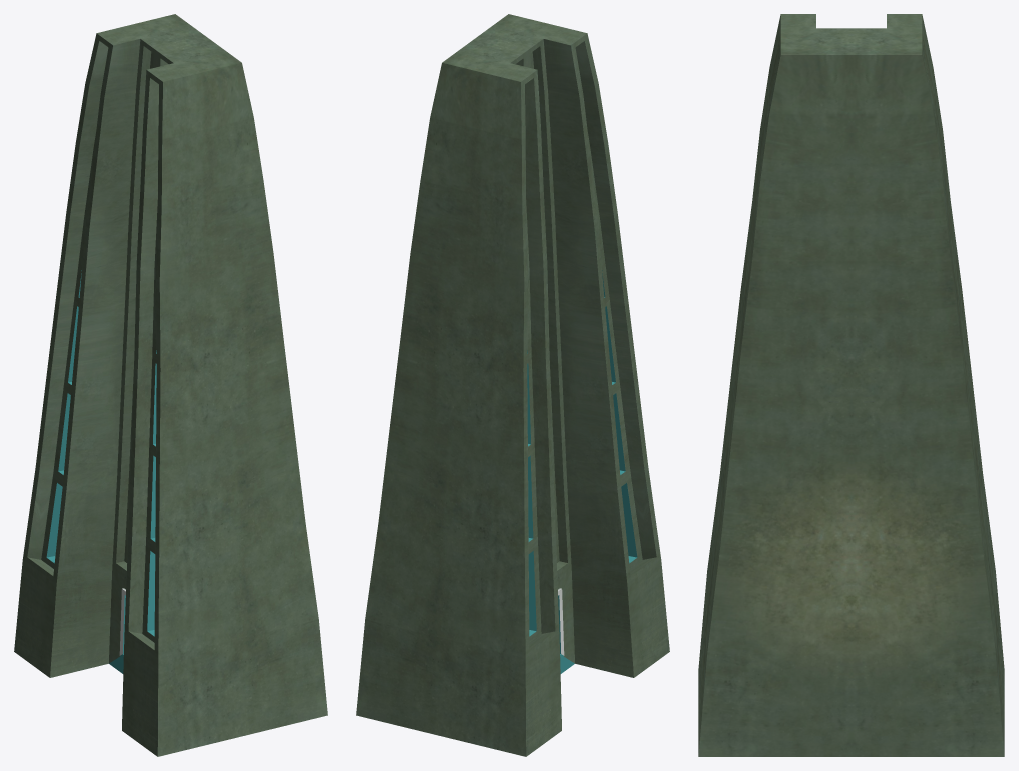
The model's file is Edificio B.fbx.
3 renders of one model, left to right at view 1: azimuth 30°, elevation 25°; view 2: azimuth 150°, elevation 25°; view 3: azimuth 270°, elevation 25°, orthographic. The views are drawn at different scales.
Parts seen in each view (by area): view 1: edificio kayla; view 2: edificio kayla; view 3: edificio kayla.
Boxes of the visible parts, box(x1,y1,x2,y2) form: edificio kayla: box(14, 14, 327, 756); edificio kayla: box(356, 14, 669, 756); edificio kayla: box(698, 14, 1004, 756).
Bounding box in the file's own units: 744 × 2659 × 1089.
Materials: 2 (1 with a texture image).
